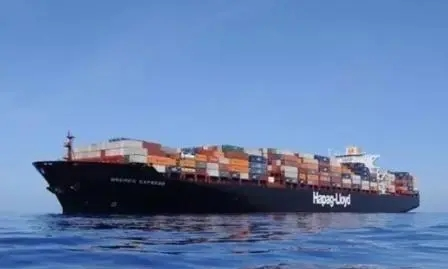Cargoship: (32, 124, 423, 213)
